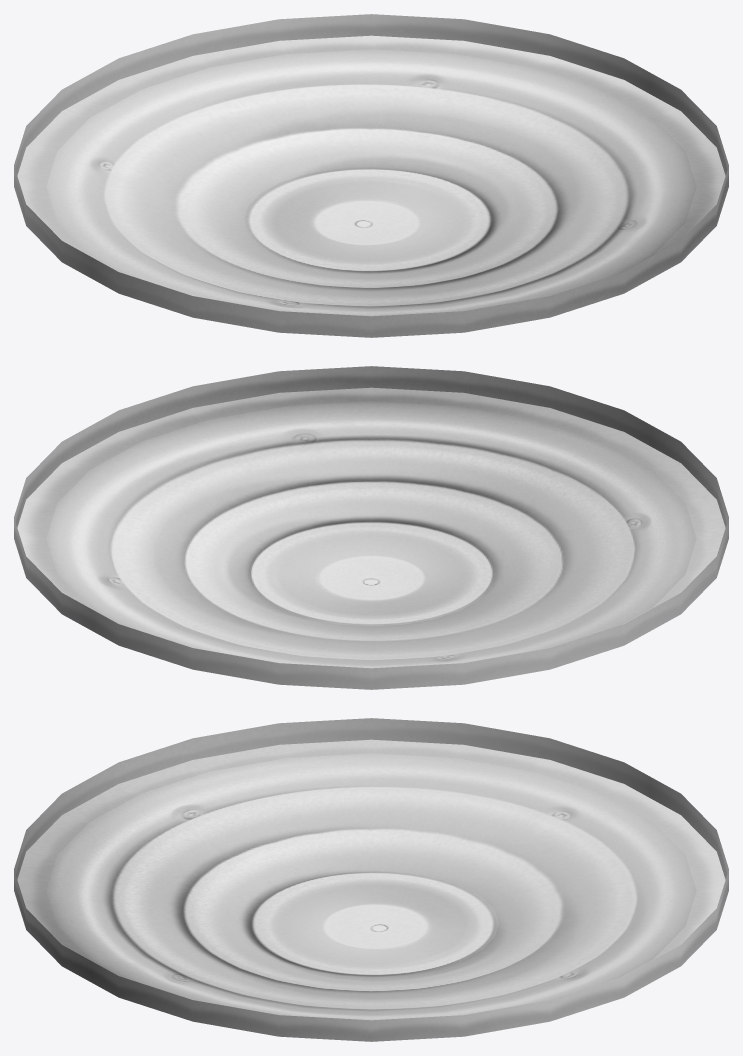
Rendered from VentCover01_3.FBX.
The picture shows the model from 3 angles, top to bottom: view 1: azimuth 30°, elevation 25°; view 2: azimuth 150°, elevation 25°; view 3: azimuth 270°, elevation 25°; orthographic projection.
Parts seen in each view (by area): view 1: VentCover01_3; view 2: VentCover01_3; view 3: VentCover01_3.
Boxes of the visible parts, x1,y1,x2,y2 form: VentCover01_3: (14,14,728,337); VentCover01_3: (14,366,728,689); VentCover01_3: (14,718,728,1041).
Size of the model in its own units: 30 by 2.84 by 30.
